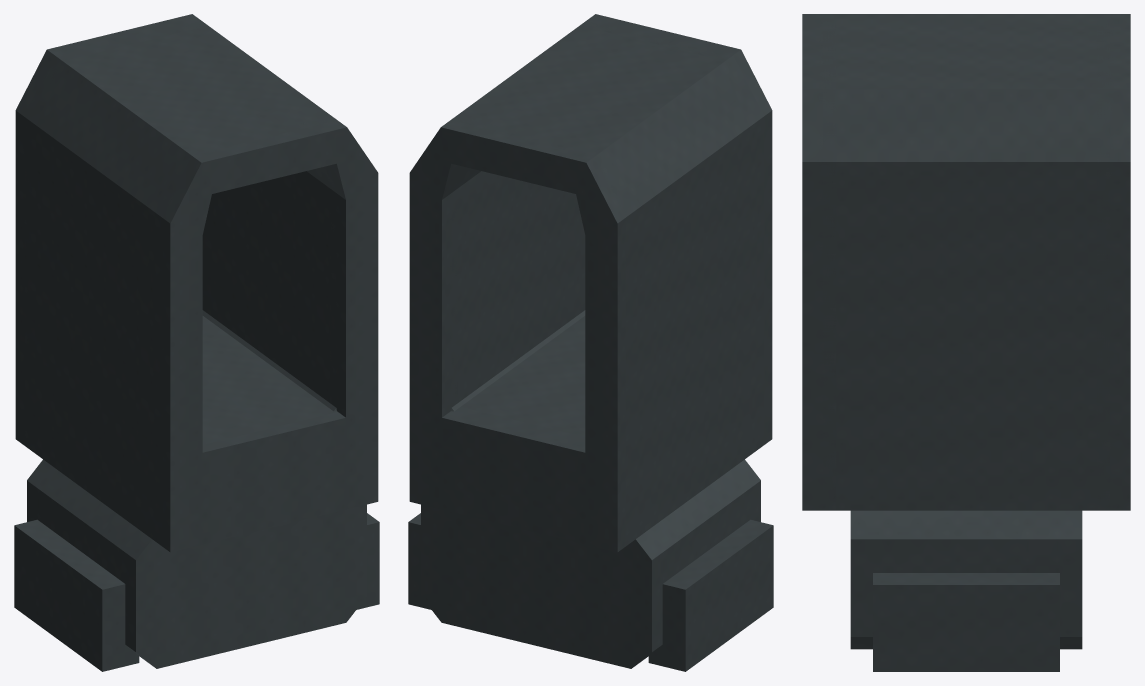
Rendered from pistol_dot.glb.
3 views of the same model, side by side, from view 1: azimuth 30°, elevation 25°; view 2: azimuth 150°, elevation 25°; view 3: azimuth 270°, elevation 25° (orthographic). The views are drawn at different scales.
Visible parts, largest first — view 1: pistol_dot_foot, pistol_dot_foot.001; view 2: pistol_dot_foot, pistol_dot_foot.001; view 3: pistol_dot_foot, pistol_dot_foot.001.
Boxes of the visible parts, x1,y1,x2,y2 form: pistol_dot_foot: [14, 14, 379, 671]; pistol_dot_foot.001: [23, 25, 337, 546]; pistol_dot_foot: [408, 14, 773, 671]; pistol_dot_foot.001: [449, 25, 764, 546]; pistol_dot_foot: [802, 14, 1130, 671]; pistol_dot_foot.001: [819, 14, 1113, 510].
Bounding box in the file's own units: 0.06 × 0.107 × 0.058.
1 material, 1 textured.
